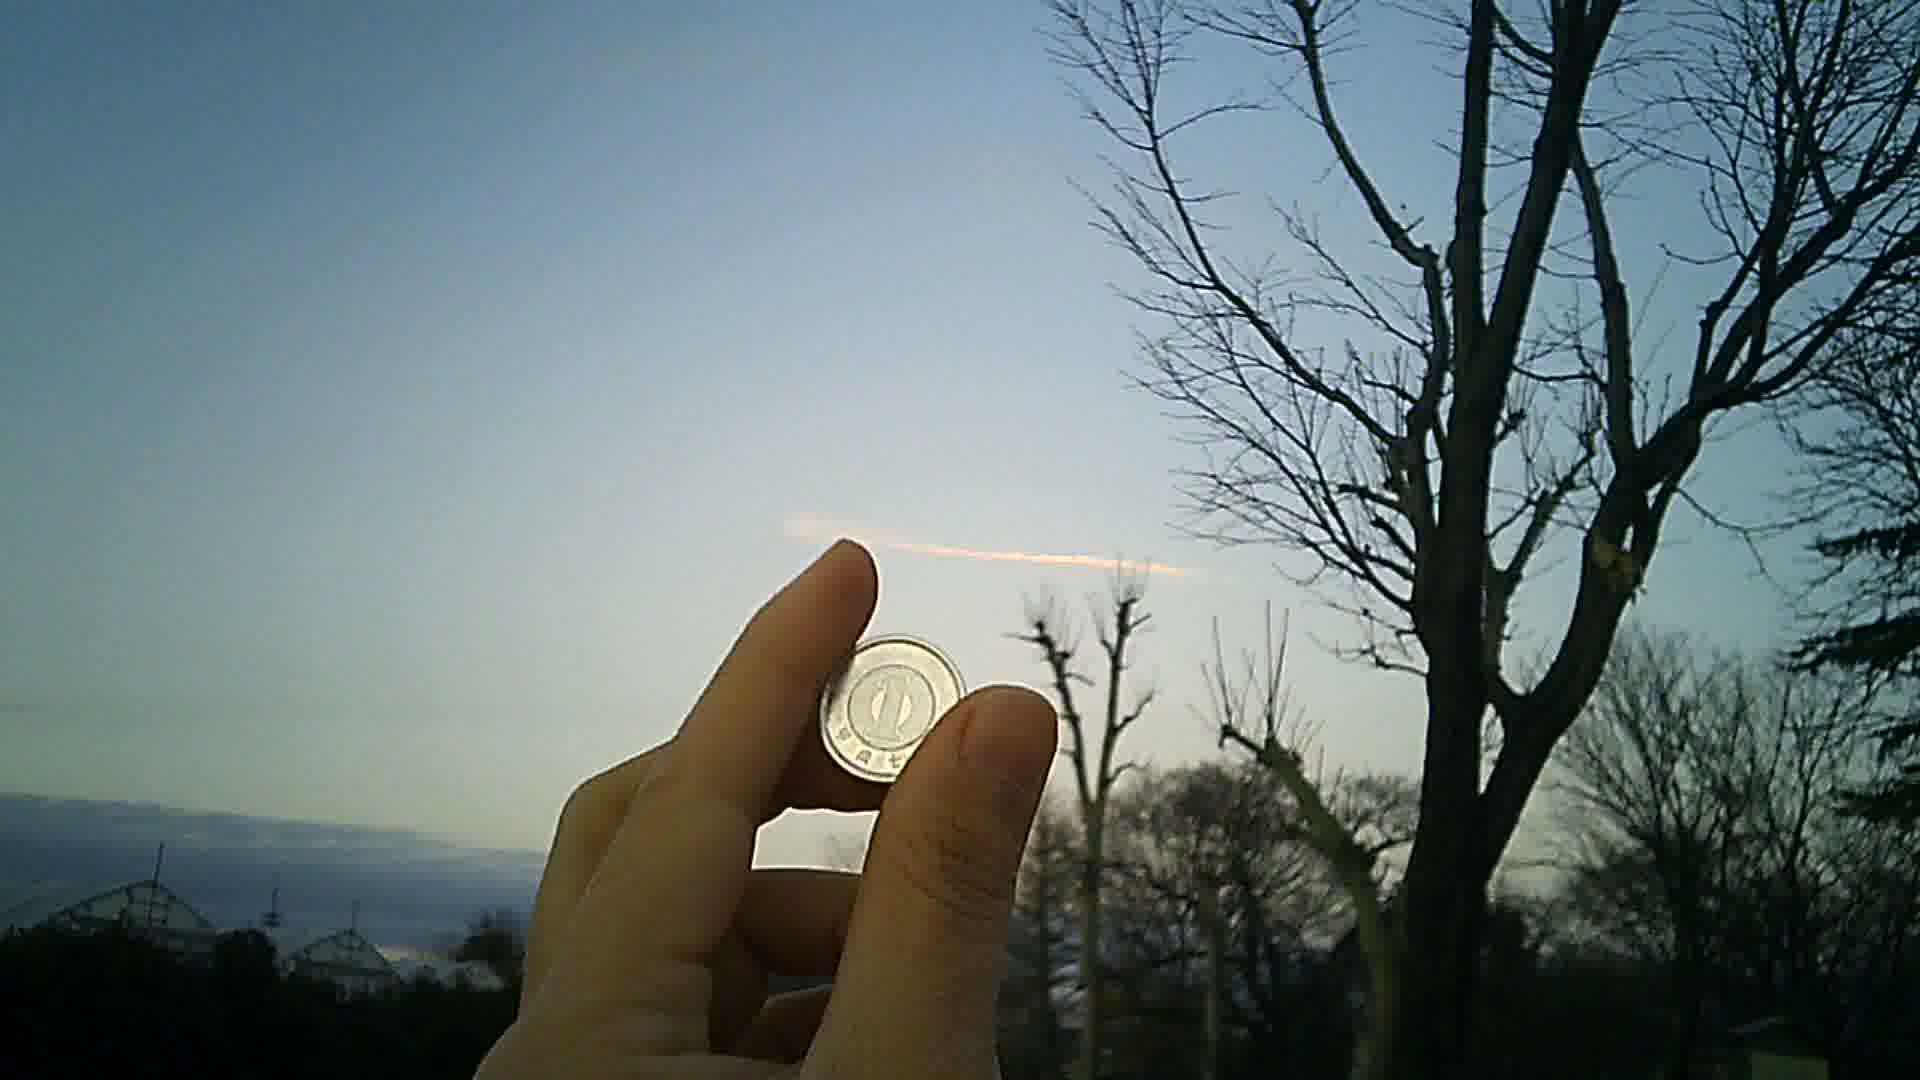1 Yen: (808, 622, 972, 790)
